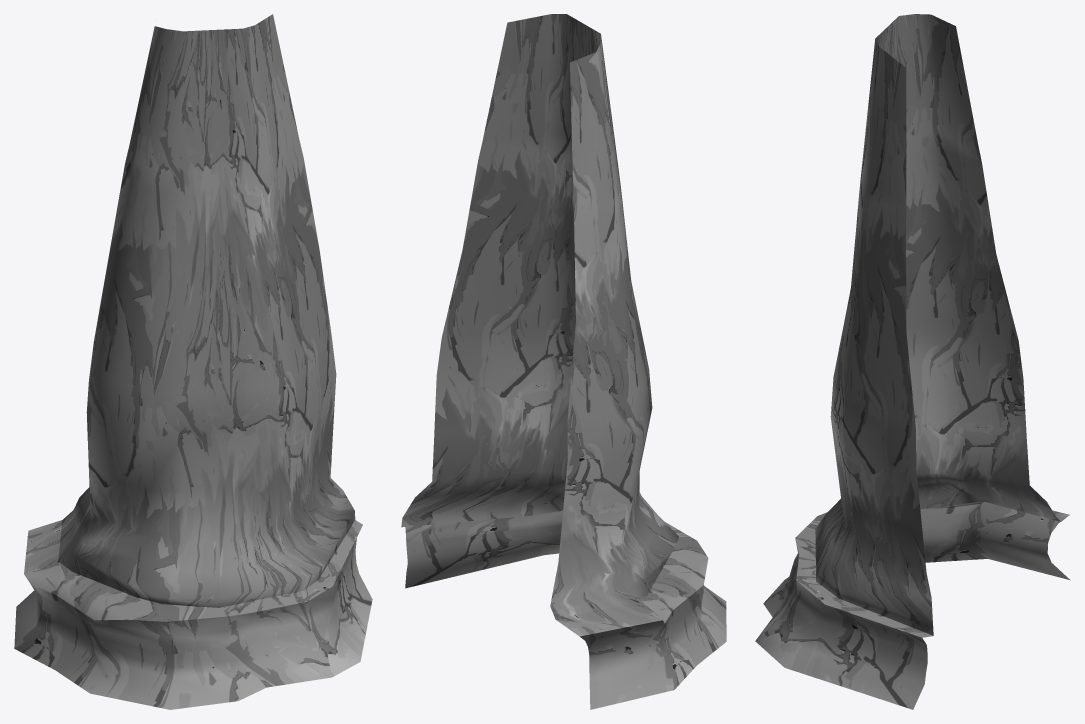
Rendered from Wall.fbx.
The picture shows the model from 3 angles, left to right: view 1: azimuth 30°, elevation 25°; view 2: azimuth 150°, elevation 25°; view 3: azimuth 270°, elevation 25°; orthographic projection. The views are drawn at different scales.
Parts seen in each view (by area): view 1: pPlane3; view 2: pPlane3; view 3: pPlane3.
Part boxes in pixels (x1=…): pPlane3: x1=14, y1=14, x2=372, y2=709; pPlane3: x1=401, y1=14, x2=726, y2=709; pPlane3: x1=755, y1=14, x2=1070, y2=709.
Bounding box in the file's own units: 101 × 187 × 88.97.
1 material, 1 textured.
